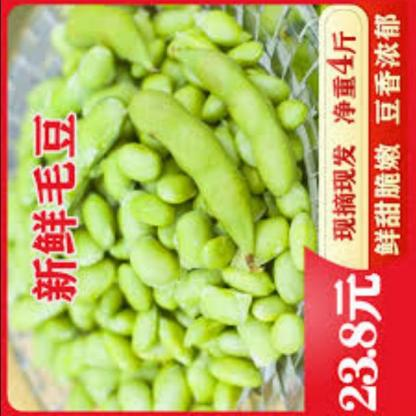beans: (6, 2, 301, 416)
